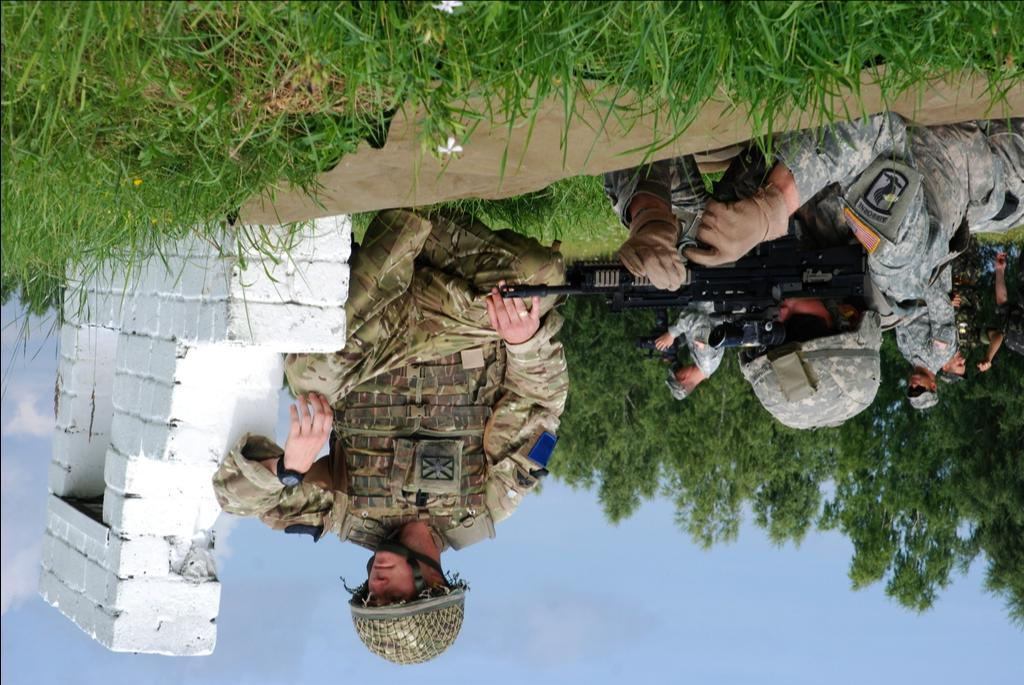gun: (477, 154, 855, 347)
